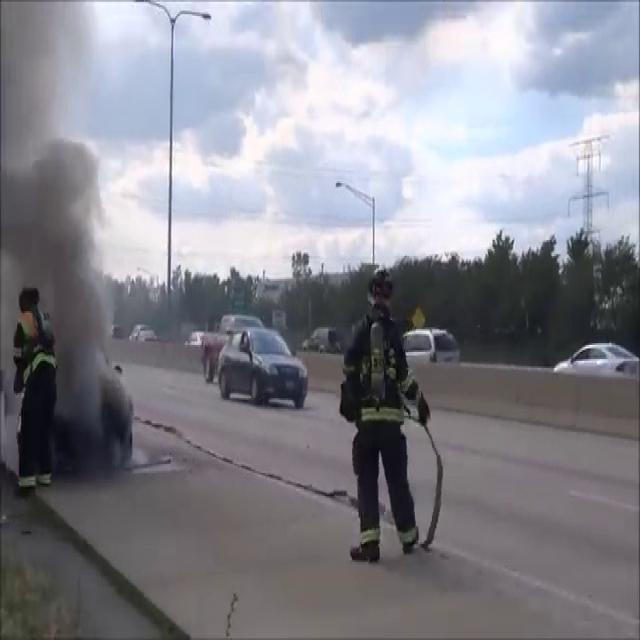Smoke: (0, 2, 134, 457)
